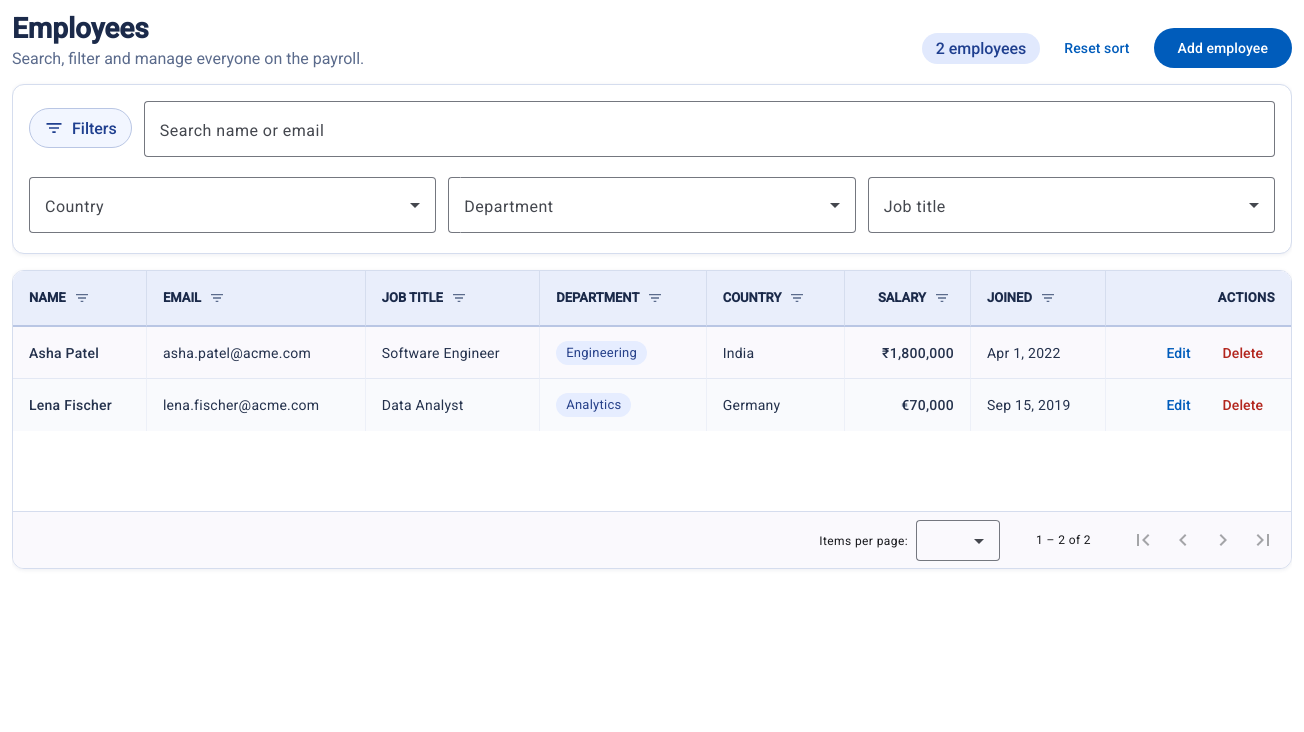
Scenario: EmployeeListComponent › resets the sort to the default
This screenshot has width=1304, height=732.
Click the button with class "reset-sort" at coordinates (1097, 48), box [1052,28,1142,68]
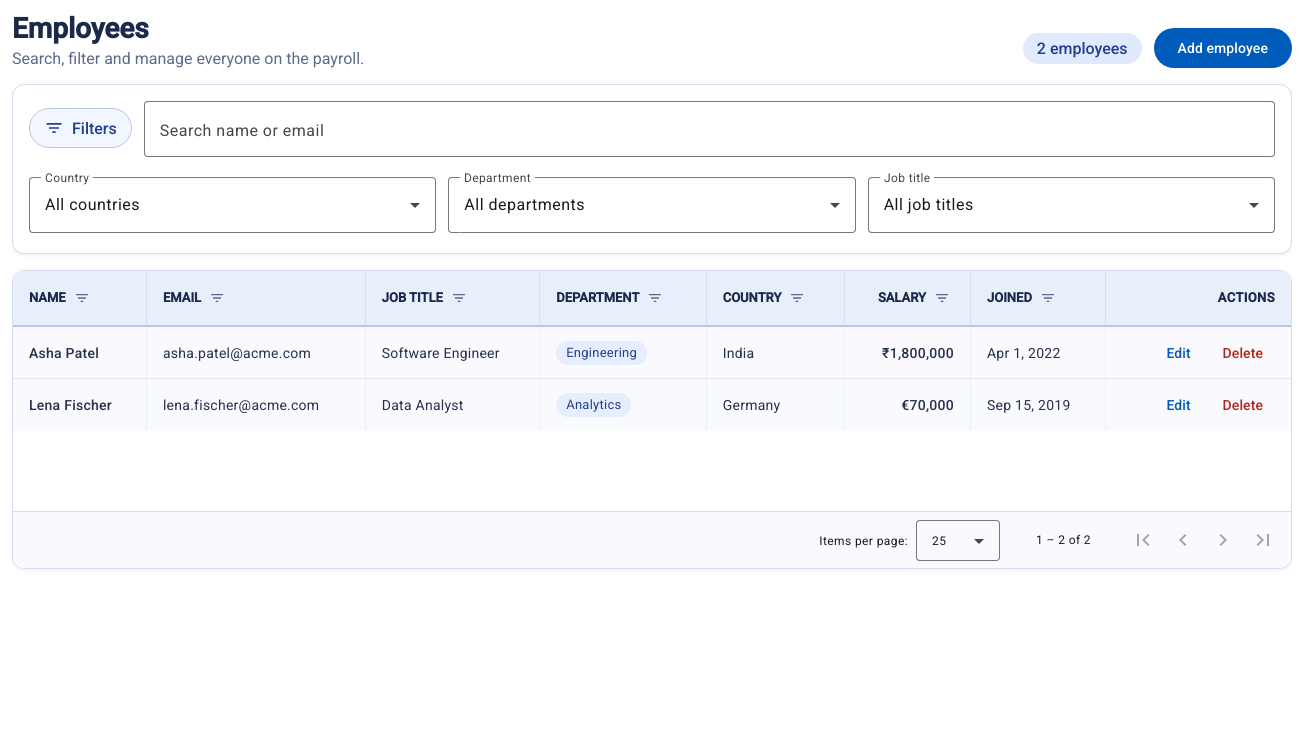
Now the button with class "reset-sort" is gone
